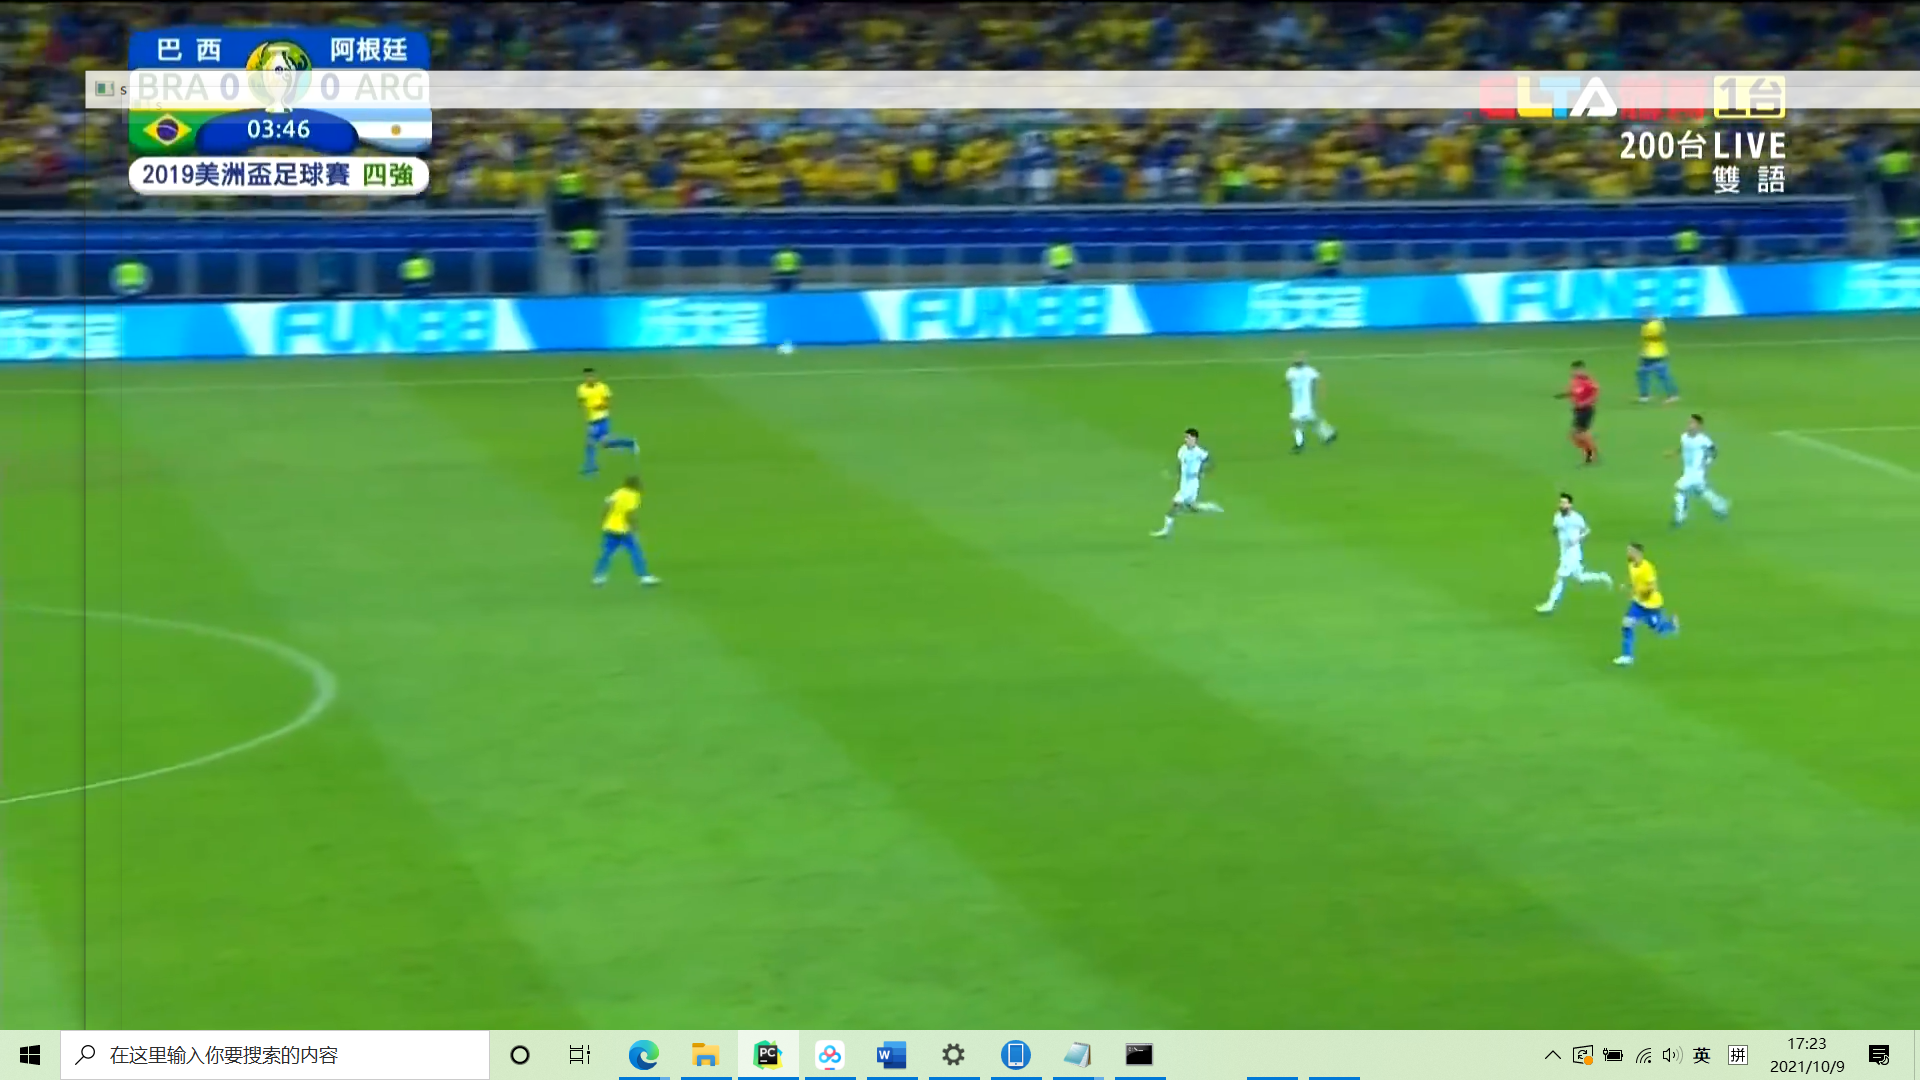ft: (774, 340, 798, 357)
